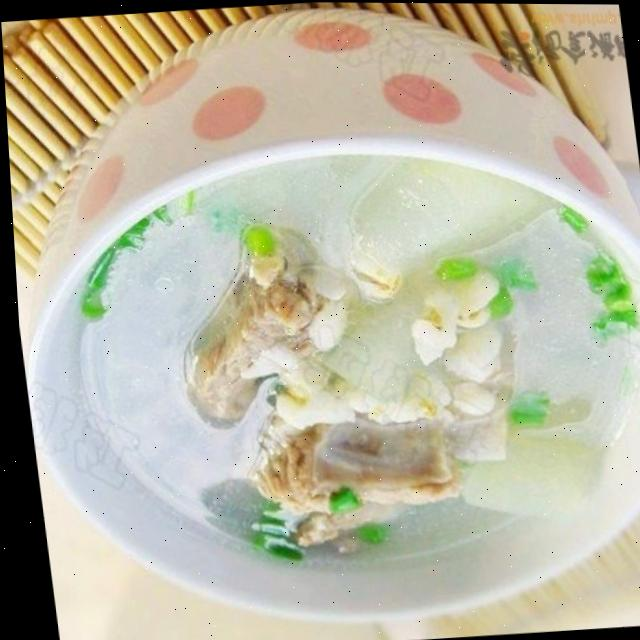汤锅炖物: (1, 15, 640, 636)
